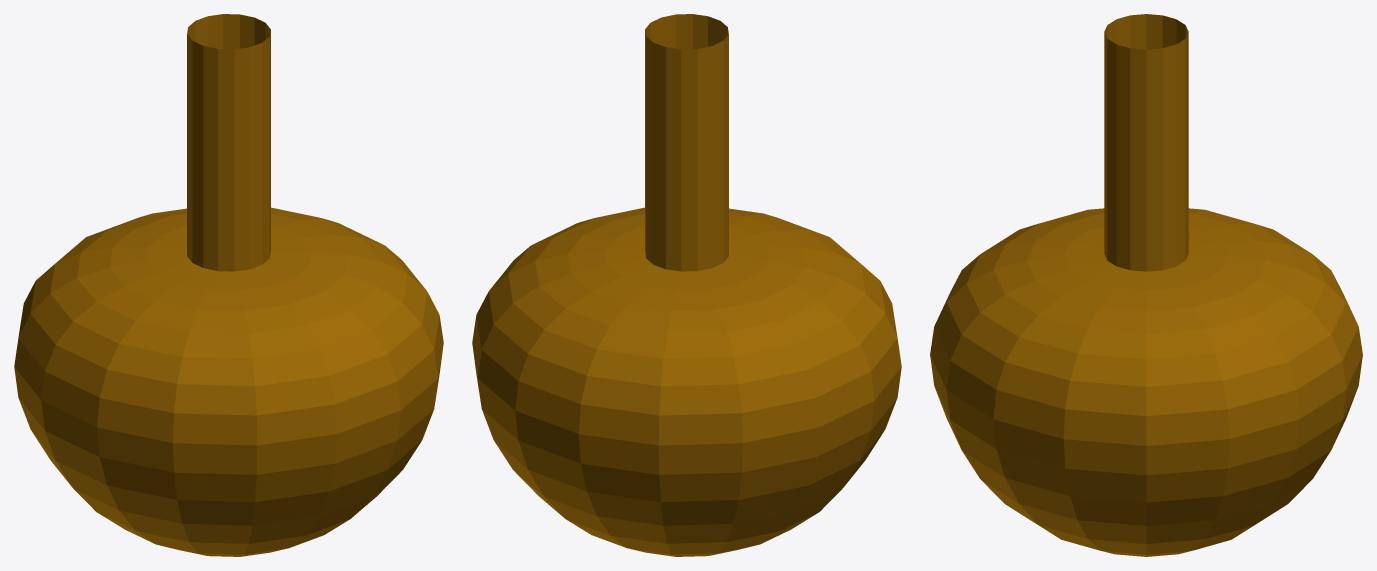
The model's file is lampbase.glb.
3 renders of one model, left to right at view 1: azimuth 30°, elevation 25°; view 2: azimuth 150°, elevation 25°; view 3: azimuth 270°, elevation 25°, orthographic.
Visible parts, largest first — view 1: LampBase; view 2: LampBase; view 3: LampBase.
Boxes of the visible parts, <box> form: LampBase: <box>14,14,443,556</box>; LampBase: <box>472,14,901,556</box>; LampBase: <box>930,14,1362,556</box>.
Size of the model in its own units: 0.1111 by 0.143 by 0.1111.
